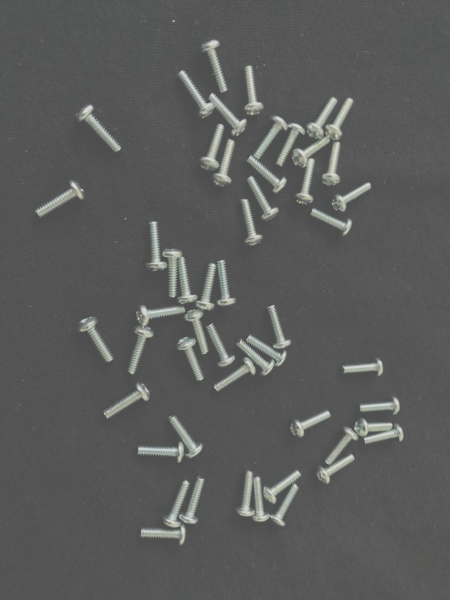shortscrew: (75, 104, 123, 153), (35, 180, 87, 218), (179, 71, 216, 120), (103, 383, 150, 420), (77, 317, 114, 363), (209, 94, 248, 137), (253, 116, 288, 160), (247, 156, 287, 194), (199, 39, 227, 93), (213, 358, 256, 393), (169, 415, 203, 459), (236, 340, 275, 377), (248, 177, 280, 221), (206, 322, 236, 368), (306, 96, 338, 139), (246, 335, 288, 367), (176, 336, 205, 382), (263, 470, 302, 504), (127, 326, 154, 375), (276, 124, 306, 168), (325, 96, 354, 141), (331, 182, 373, 213), (325, 427, 359, 465), (269, 485, 299, 528), (163, 481, 190, 528), (180, 476, 205, 526), (309, 209, 353, 237), (241, 64, 264, 116), (184, 309, 210, 355), (315, 456, 356, 485), (293, 137, 330, 169), (198, 125, 224, 170), (289, 411, 332, 438), (145, 221, 167, 272), (135, 304, 186, 326), (241, 199, 264, 247), (267, 305, 292, 349), (212, 140, 235, 187), (140, 523, 187, 546), (162, 248, 183, 299), (294, 158, 316, 204), (177, 257, 198, 305), (195, 264, 216, 312), (320, 140, 341, 186), (217, 260, 237, 308), (137, 443, 184, 463), (363, 424, 404, 446), (236, 471, 255, 518), (340, 358, 384, 378), (358, 396, 401, 415), (254, 477, 271, 523), (353, 418, 393, 436)
